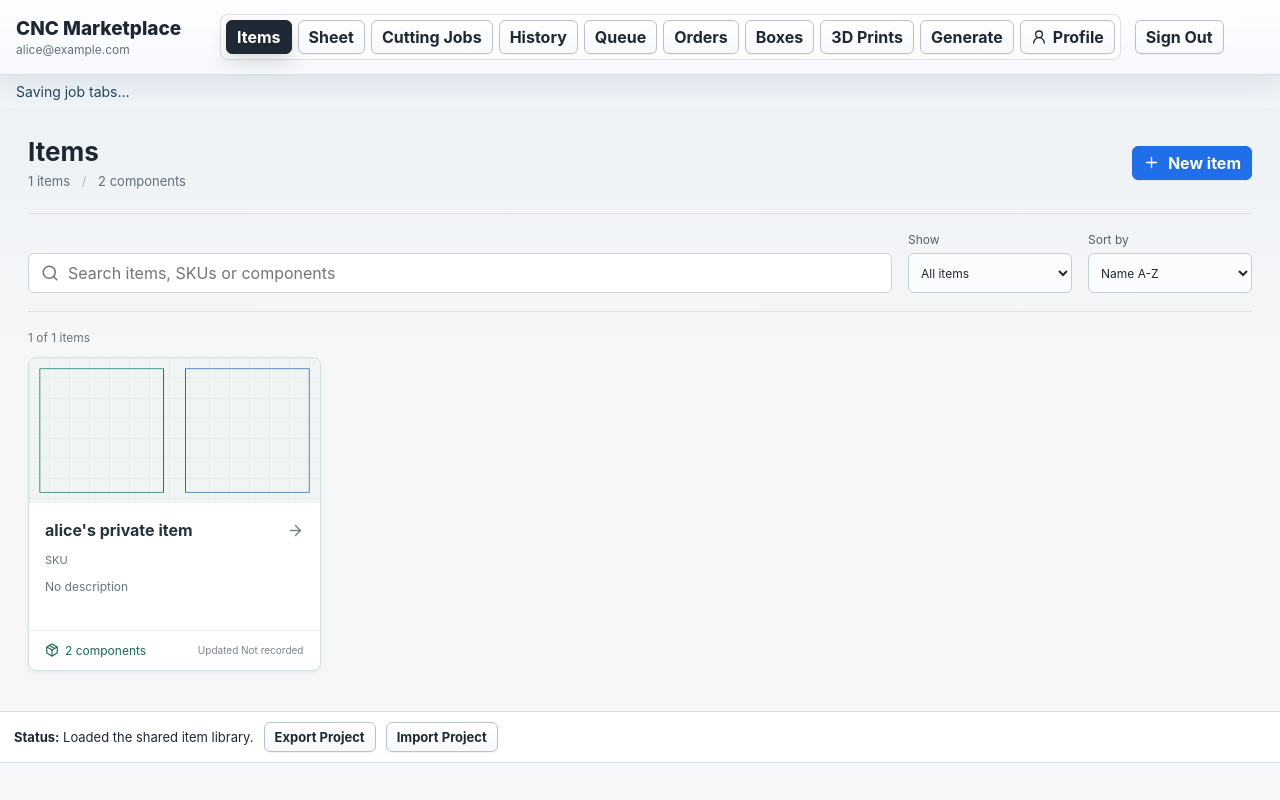
Test case: account switching › removes an empty job tab and returns to the other saved job
The image size is (1280, 800).
Click the button "Sheet" at (331, 37), box [298,20,365,54]
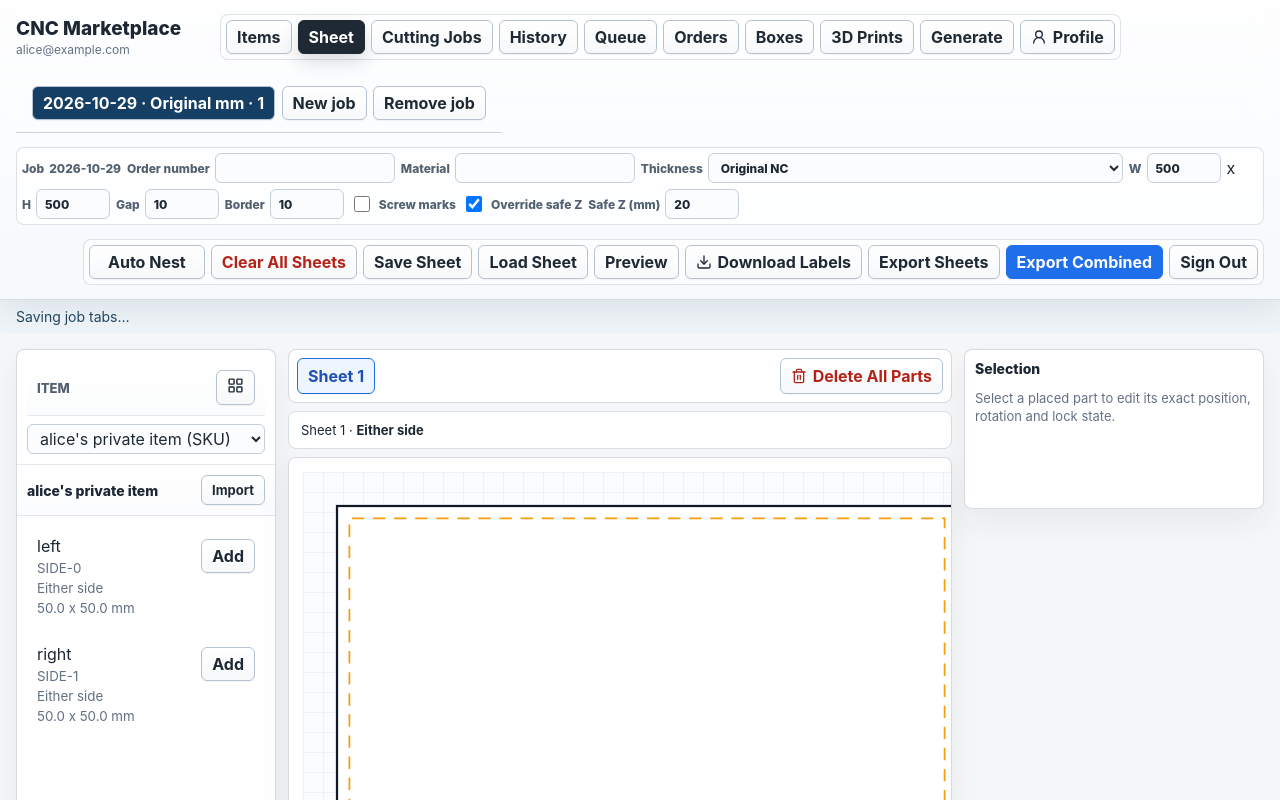
Type "KEEP" into the field labelled "Order number" at (305, 168), box [215,153,395,183]
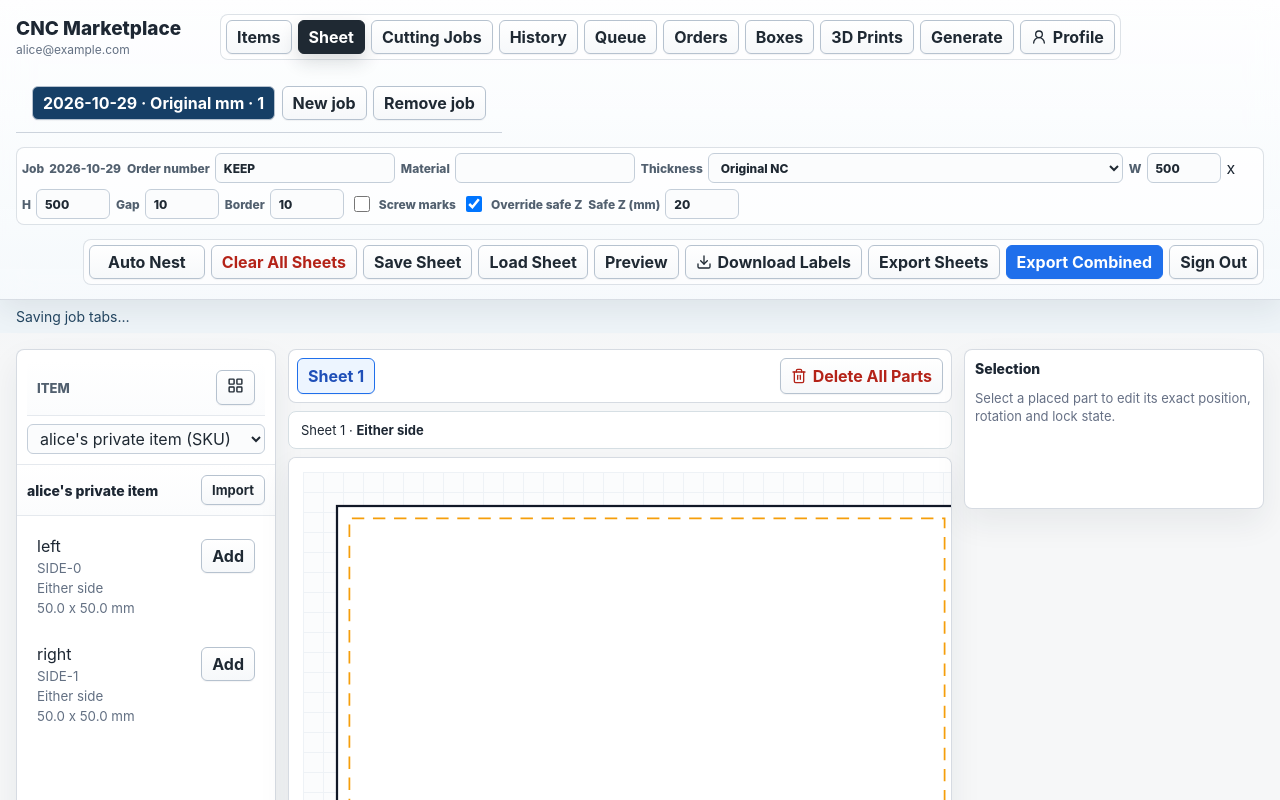
Click the button "New job" at (324, 103), box [282,86,367,120]
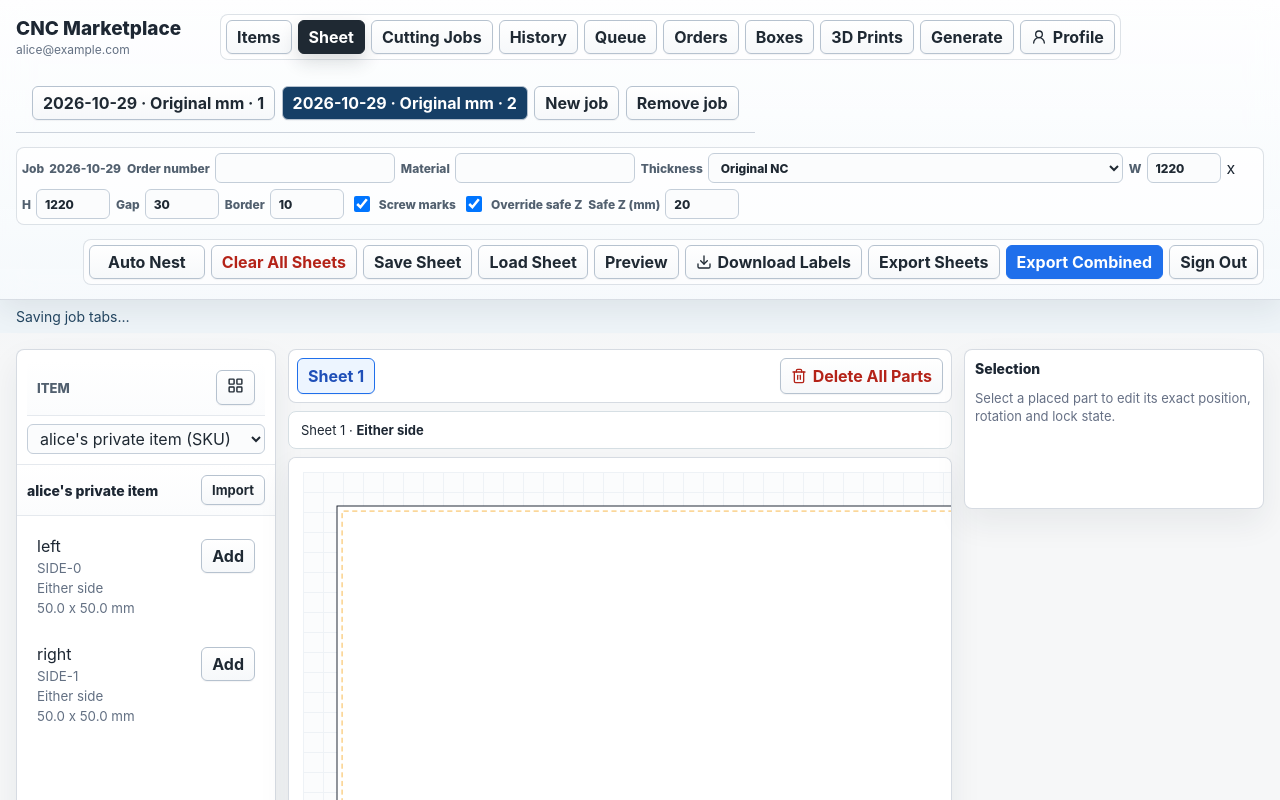
Expected: the number of tabs is 2, [32,86,275,120]; [282,86,528,120]
Click the button "Remove job" at (682, 103), box [626,86,739,120]
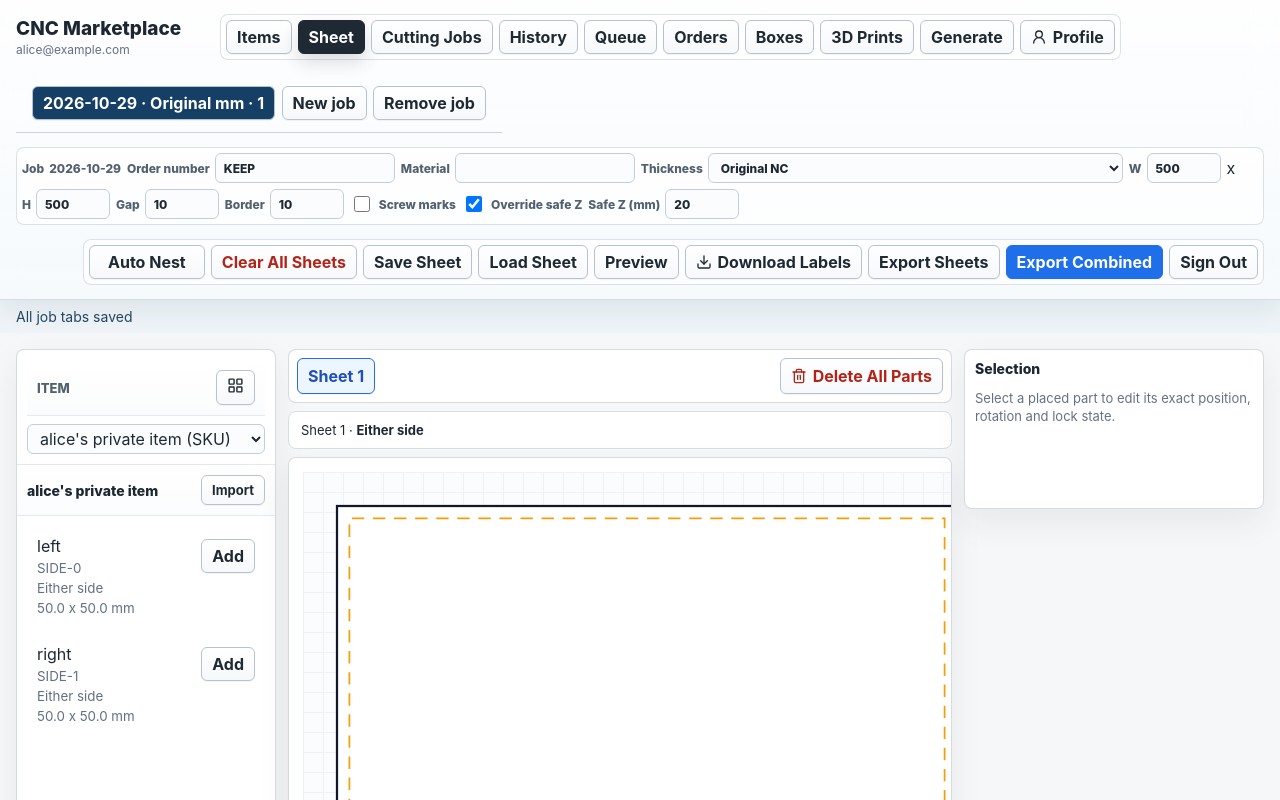
Expected: the number of tabs is 1, [32,86,275,120]
